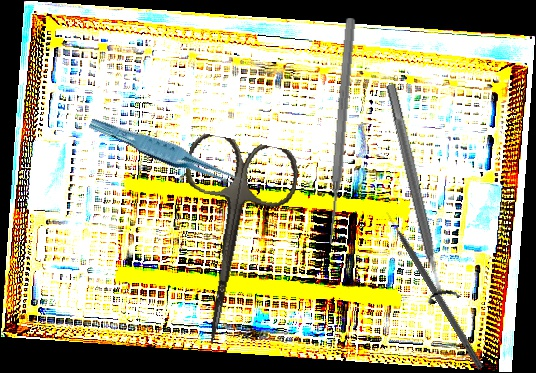Fixation Ring: (373, 80, 462, 306)
Hook Surgical: (384, 209, 486, 370)
Iris Scissors: (154, 131, 303, 354)
Pusher: (323, 17, 358, 247)
Tissue Forceps: (87, 106, 245, 200)
